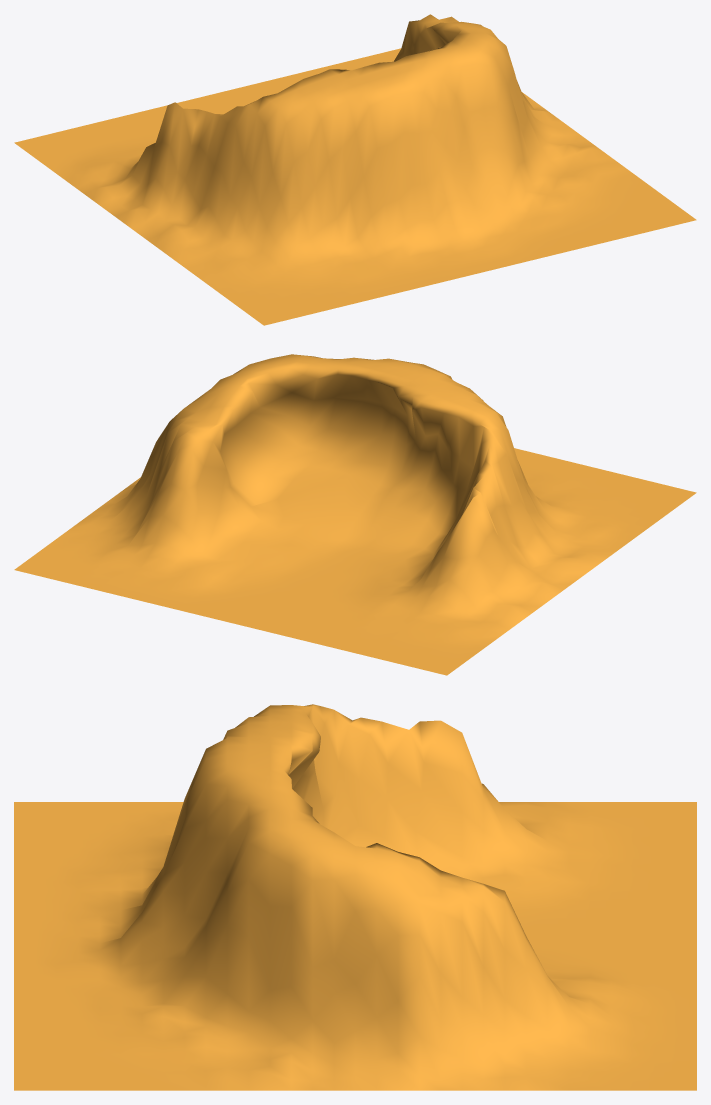
The model's file is windshield.fbx.
The picture shows the model from 3 angles, top to bottom: view 1: azimuth 30°, elevation 25°; view 2: azimuth 150°, elevation 25°; view 3: azimuth 270°, elevation 25°; orthographic projection. The views are drawn at different scales.
Visible parts, largest first — view 1: windshield; view 2: windshield; view 3: windshield.
Part boxes in pixels (<box>): windshield: <box>14,14,696,325</box>; windshield: <box>14,354,696,675</box>; windshield: <box>14,704,696,1090</box>.
Bounding box in the file's own units: 4 × 1.2 × 4.
